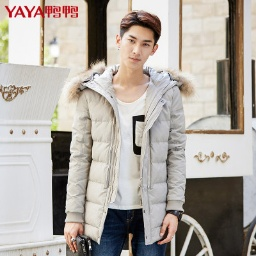face: (113, 9, 161, 68)
